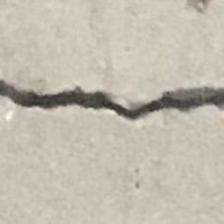Crack: (0, 64, 224, 134)
